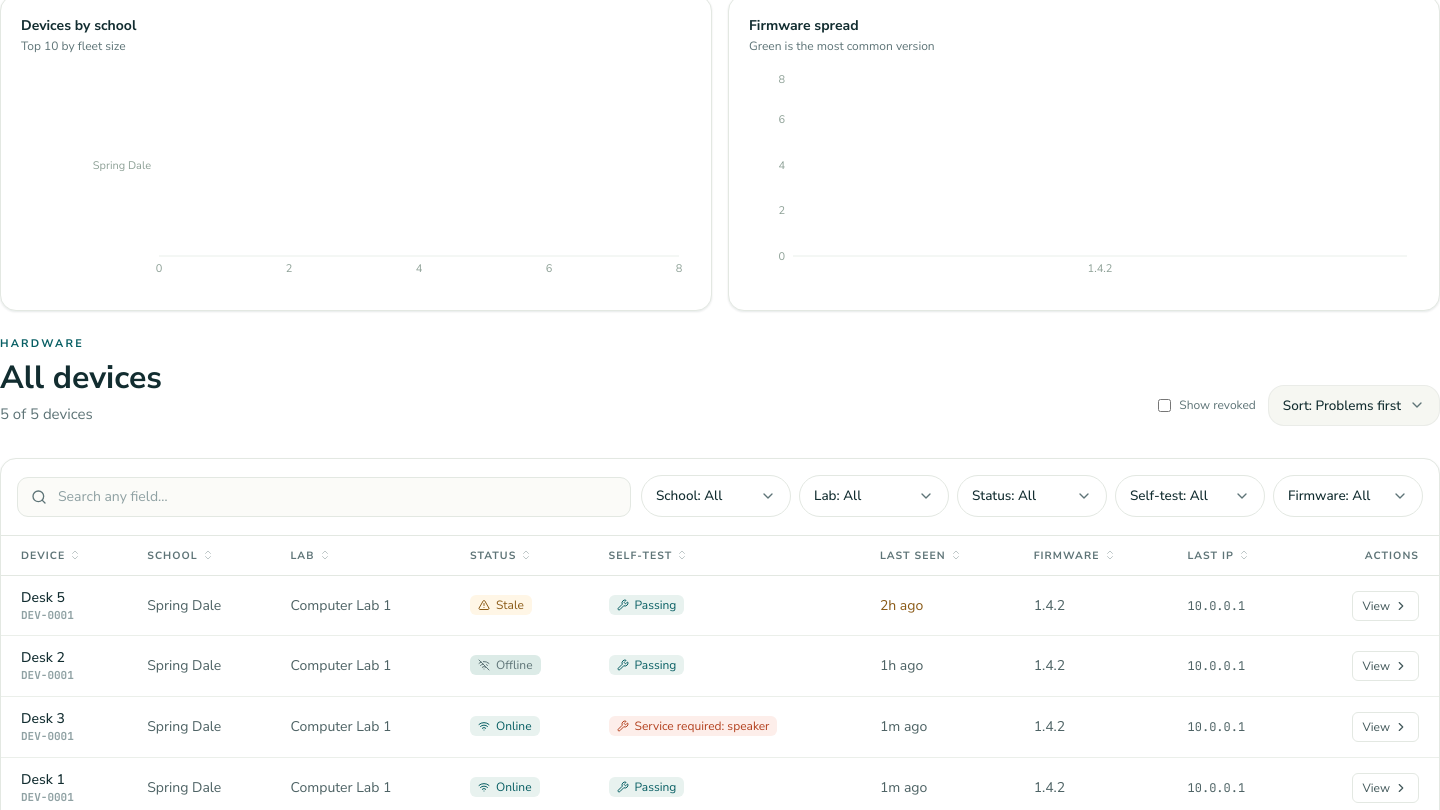
it: DevicesView › hides revoked devices from the table until the toggle is switched on
(page scrolled)
Expected: the text "5 of 5 devices" is shown, [0,404,93,424]
Expected: the text "Desk 6" is not shown
Click the checkbox labelled "Show revoked". click: (1165, 405)
box: [1158,399,1171,412]
(page scrolled)
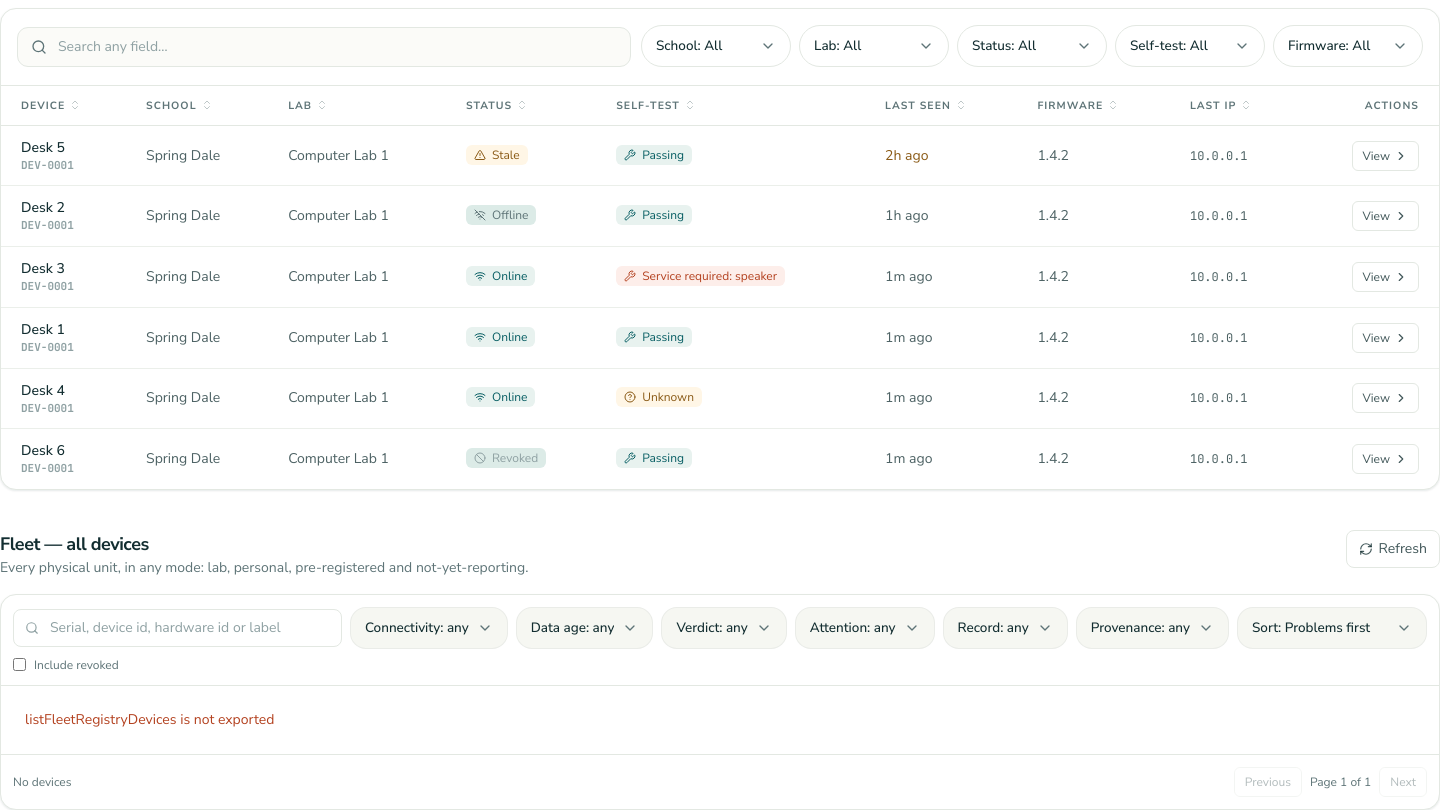
Expected: the text "Desk 6" is shown, [21,441,65,460]
